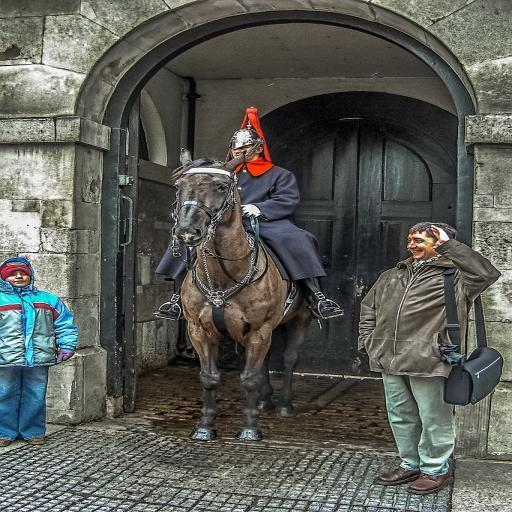horse: (170, 148, 317, 442)
